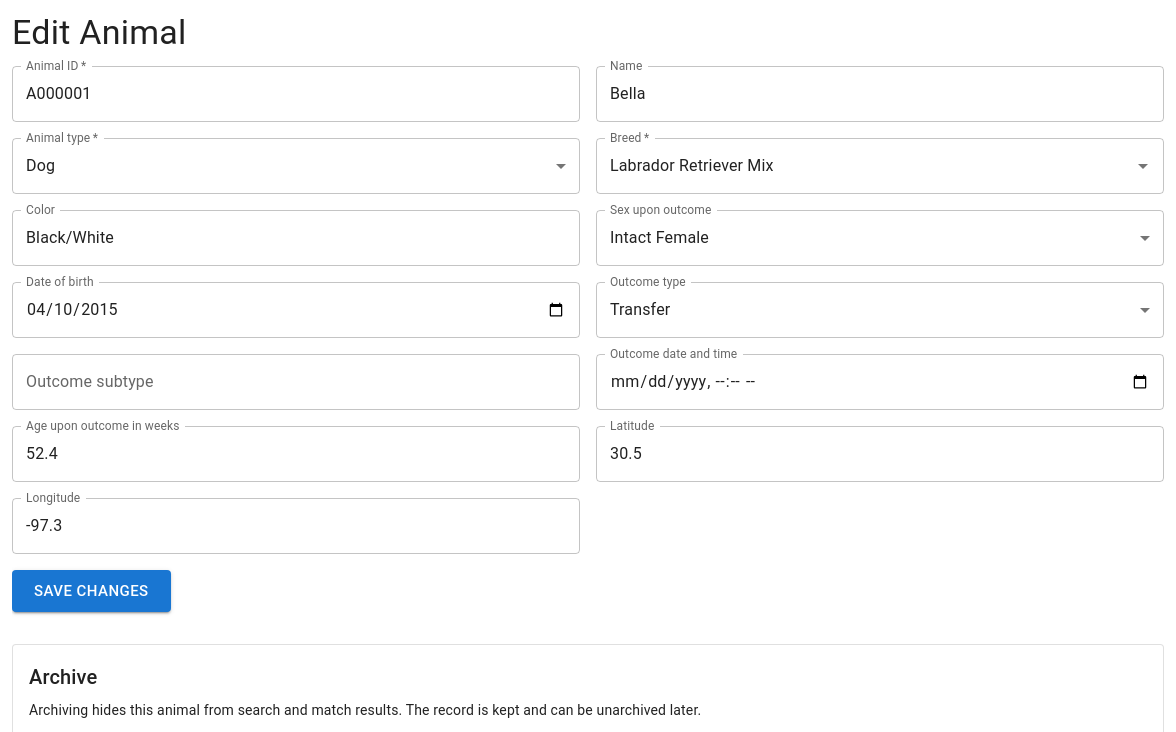
Scenario: EditAnimalPage › skips the request when nothing changed
expect the field labelled "Animal ID *" is shown: met, box [12,66,580,122]
Click the button "Save changes" at (91, 591), box [12,570,170,612]
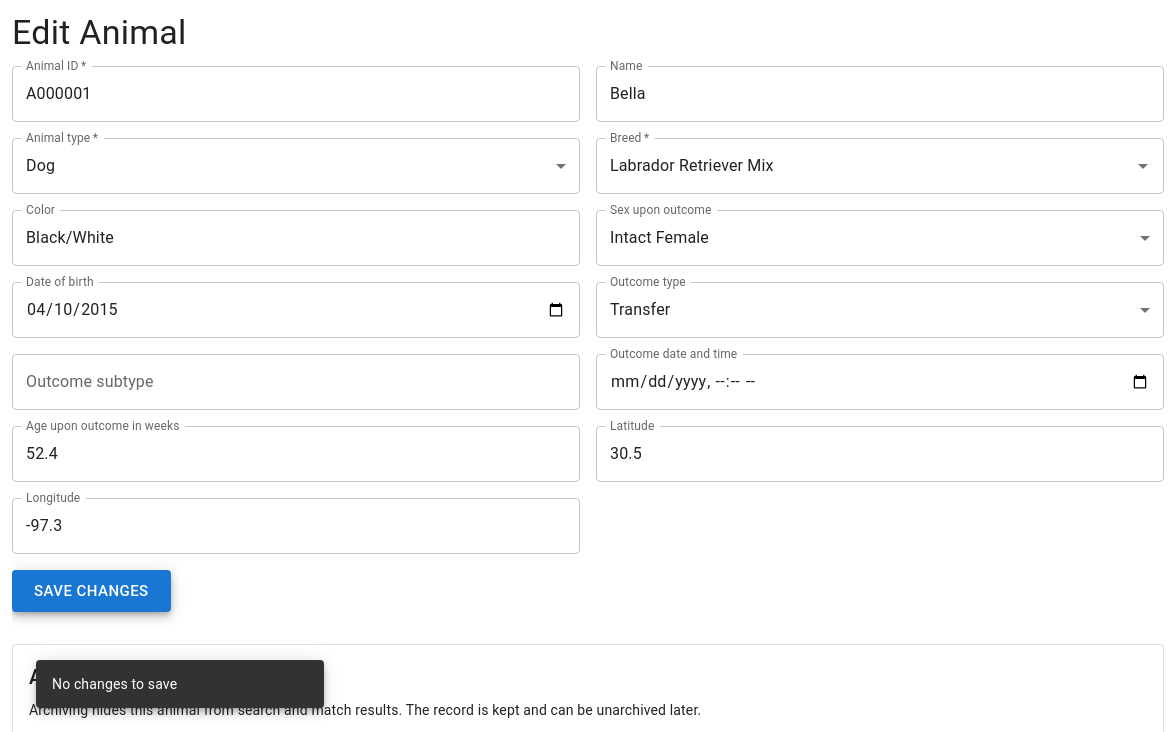
expect the text "No changes to save" is shown: met, box [52,676,177,692]
